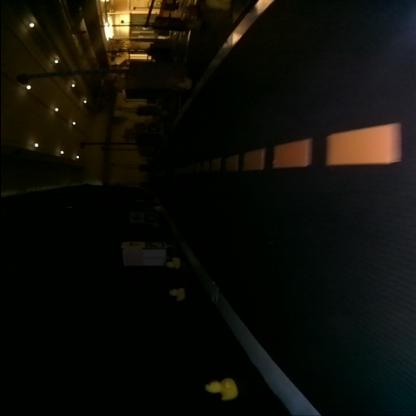Duckie: (203, 378, 234, 400), (168, 288, 184, 300), (176, 77, 190, 89), (165, 257, 179, 268)
Intersection sign: (124, 242, 140, 248)
QR code: (143, 242, 165, 247)
